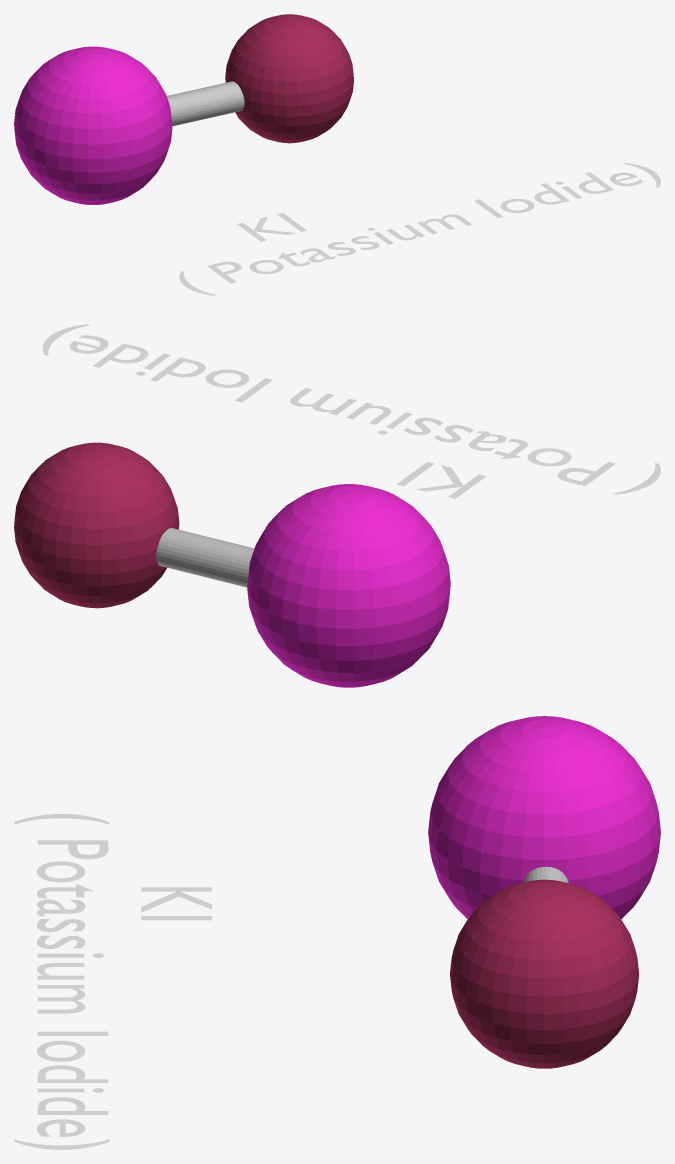
File: Potassium Iodide.fbx
3 views of the same model, one above another, from view 1: azimuth 30°, elevation 25°; view 2: azimuth 150°, elevation 25°; view 3: azimuth 270°, elevation 25° (orthographic). The views are drawn at different scales.
Visible parts, largest first — view 1: Sphere, Sphere.002, Text, Cylinder; view 2: Sphere, Sphere.002, Text, Cylinder; view 3: Sphere, Sphere.002, Text.
Boxes of the visible parts, left/top/right/bottom form: Sphere: left=14, top=46, right=172, bottom=204; Sphere.002: left=225, top=14, right=353, bottom=143; Text: left=179, top=163, right=660, bottom=295; Cylinder: left=166, top=81, right=244, bottom=126; Sphere: left=247, top=484, right=450, bottom=687; Sphere.002: left=14, top=442, right=179, bottom=608; Text: left=42, top=324, right=660, bottom=498; Cylinder: left=156, top=528, right=254, bottom=587; Sphere: left=428, top=716, right=660, bottom=919; Sphere.002: left=450, top=879, right=639, bottom=1068; Text: left=14, top=814, right=211, bottom=1149.
Size of the model in its own units: 768 by 225 by 625.
